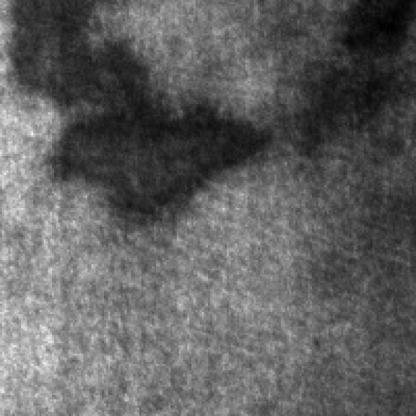patches: (40, 8, 264, 212), (289, 10, 399, 156), (339, 2, 410, 62)
